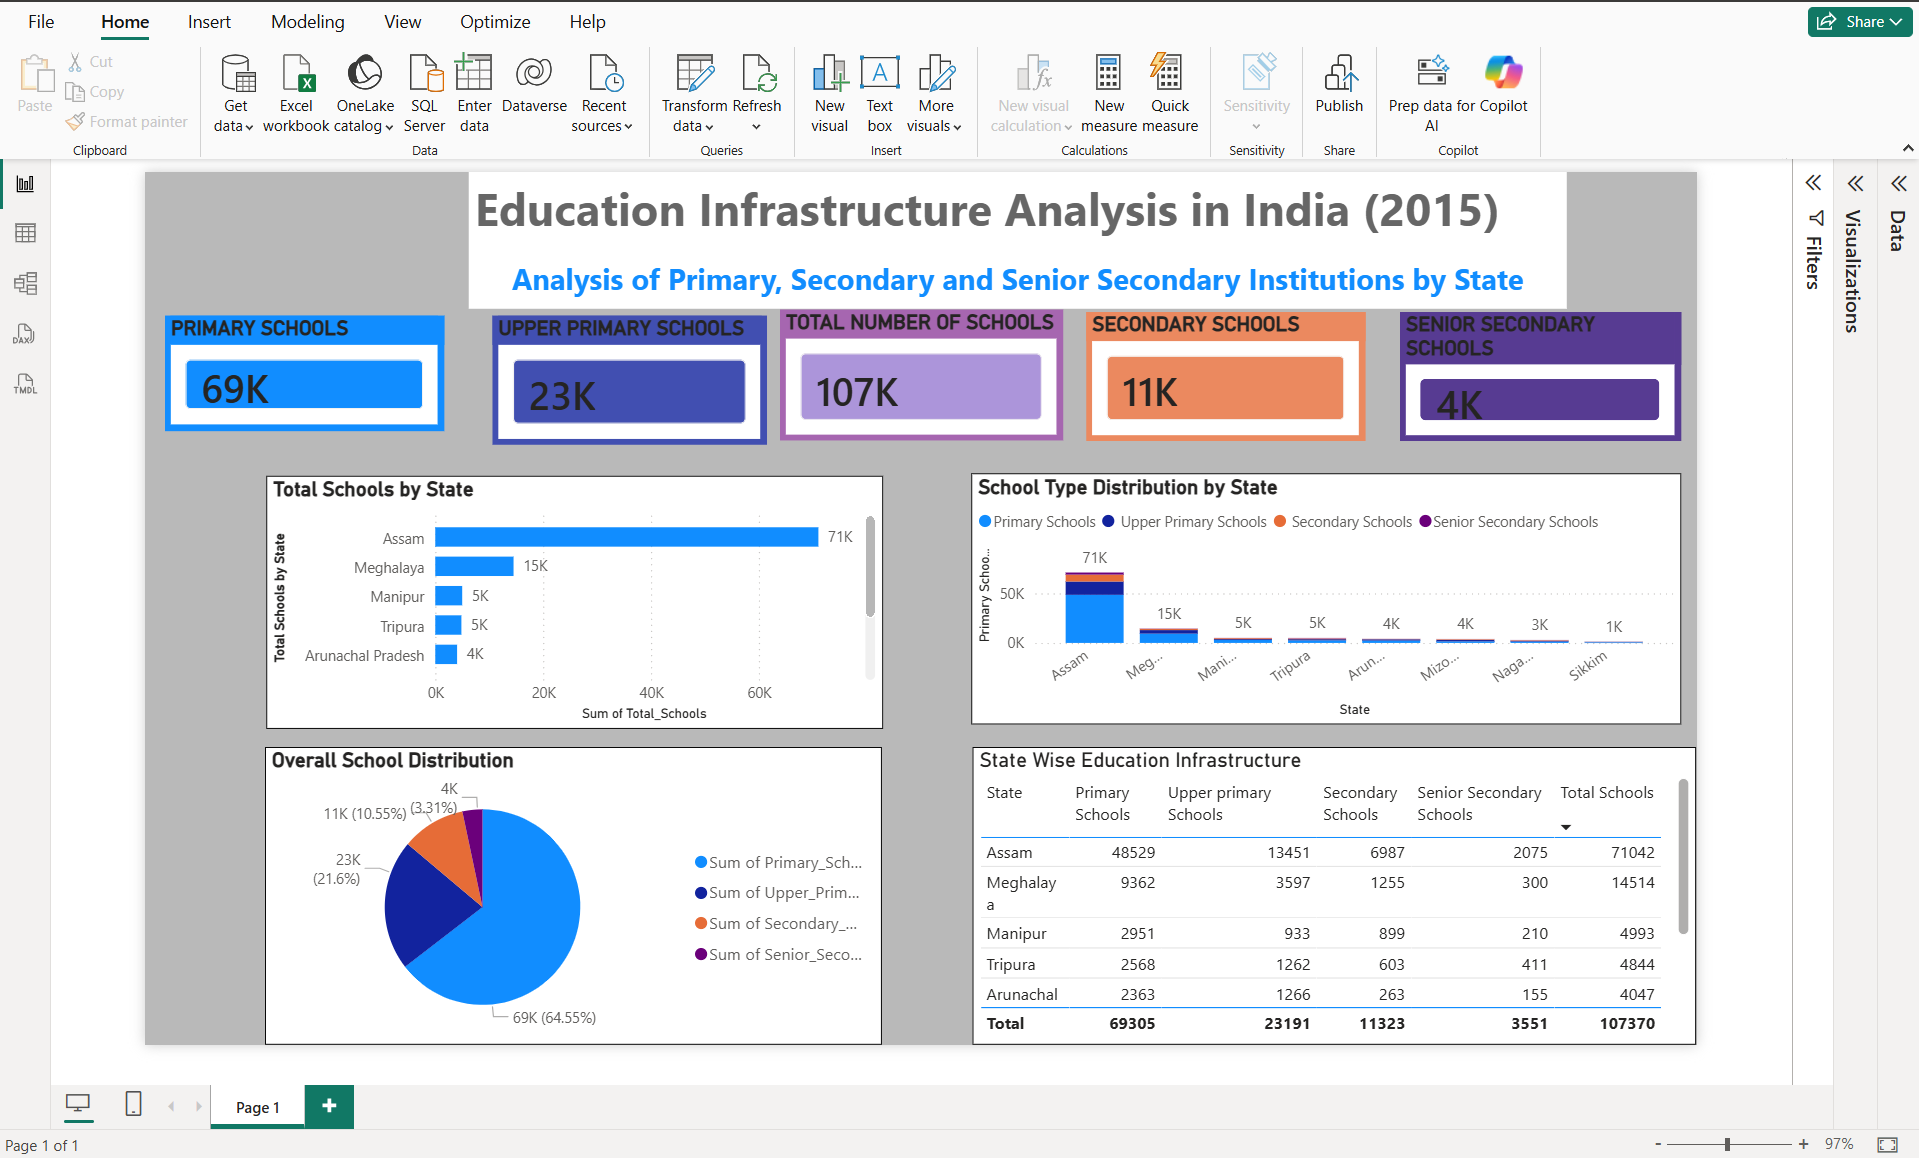

This screenshot's page, from the dashboard's own definition file:
{"tool":"powerbi","page":{"name":"Page 1","canvas":[1280,720],"ordinal":0},"visuals":[{"type":"textbox","box":[267.1,0,905.7,112.9],"z":0},{"type":"cardVisual","title":"TOTAL NUMBER OF SCHOOLS","fields":{"Data":["Sum(education_institutions_cleaned.Total_Schools)"]},"box":[523.3,113.3,233.3,108.3],"z":1000},{"type":"cardVisual","title":"PRIMARY SCHOOLS ","fields":{"Data":["Sum(education_institutions_cleaned.Primary_Schools)"]},"box":[16.7,118.3,230,95],"z":2000},{"type":"cardVisual","title":"UPPER PRIMARY SCHOOLS","fields":{"Data":["Sum(education_institutions_cleaned.Upper_Primary_Schools)"]},"box":[286.7,118.3,226.7,106.7],"z":3000},{"type":"cardVisual","title":"SECONDARY SCHOOLS ","fields":{"Data":["Sum(education_institutions_cleaned.Secondary_Schools)"]},"box":[776.7,115,230,106.7],"z":4000},{"type":"cardVisual","title":"SENIOR SECONDARY SCHOOLS ","fields":{"Data":["Sum(education_institutions_cleaned.Senior_Secondary_Schools)"]},"box":[1035,115,231.7,106.7],"z":5000},{"type":"clusteredBarChart","title":"Total Schools by State","fields":{"Y":["Sum(education_institutions_cleaned.Total_Schools)"],"Category":["education_institutions_cleaned.State"]},"box":[100,250,508.6,208.6],"z":6000},{"type":"columnChart","title":"School Type Distribution by State","fields":{"Category":["education_institutions_cleaned.State"],"Y":["Sum(education_institutions_cleaned.Primary_Schools)","Sum(education_institutions_cleaned.Upper_Primary_Schools)","Sum(education_institutions_cleaned.Secondary_Schools)","Sum(education_institutions_cleaned.Senior_Secondary_Schools)"]},"box":[681.4,248.6,585.7,207.1],"z":7000},{"type":"pieChart","title":"Overall School Distribution","fields":{"Y":["Sum(education_institutions_cleaned.Primary_Schools)","Sum(education_institutions_cleaned.Upper_Primary_Schools)","Sum(education_institutions_cleaned.Secondary_Schools)","Sum(education_institutions_cleaned.Senior_Secondary_Schools)"]},"box":[98.6,474.3,508.6,245.7],"z":8000},{"type":"tableEx","title":"State Wise Education Infrastructure","fields":{"Values":["education_institutions_cleaned.State","Sum(education_institutions_cleaned.Primary_Schools)","Sum(education_institutions_cleaned.Upper_Primary_Schools)","Sum(education_institutions_cleaned.Secondary_Schools)","Sum(education_institutions_cleaned.Senior_Secondary_Schools)","Sum(education_institutions_cleaned.Total_Schools)"]},"box":[682.9,474.3,597.1,245.7],"z":9000}]}

Visuals, with their boxes on the page's 1280x720 design canvas (x1, y1, x2, y2). These are canvas units, not pixel positions in the 1919x1158 screenshot, which may show the page scaled, cropped or inside an application window:
textbox: {"x1": 267, "y1": 0, "x2": 1173, "y2": 113}
"TOTAL NUMBER OF SCHOOLS" cardVisual: {"x1": 523, "y1": 113, "x2": 757, "y2": 222}
"PRIMARY SCHOOLS " cardVisual: {"x1": 17, "y1": 118, "x2": 247, "y2": 213}
"UPPER PRIMARY SCHOOLS" cardVisual: {"x1": 287, "y1": 118, "x2": 513, "y2": 225}
"SECONDARY SCHOOLS " cardVisual: {"x1": 777, "y1": 115, "x2": 1007, "y2": 222}
"SENIOR SECONDARY SCHOOLS " cardVisual: {"x1": 1035, "y1": 115, "x2": 1267, "y2": 222}
"Total Schools by State" clusteredBarChart: {"x1": 100, "y1": 250, "x2": 609, "y2": 459}
"School Type Distribution by State" columnChart: {"x1": 681, "y1": 249, "x2": 1267, "y2": 456}
"Overall School Distribution" pieChart: {"x1": 99, "y1": 474, "x2": 607, "y2": 720}
"State Wise Education Infrastructure" tableEx: {"x1": 683, "y1": 474, "x2": 1280, "y2": 720}
